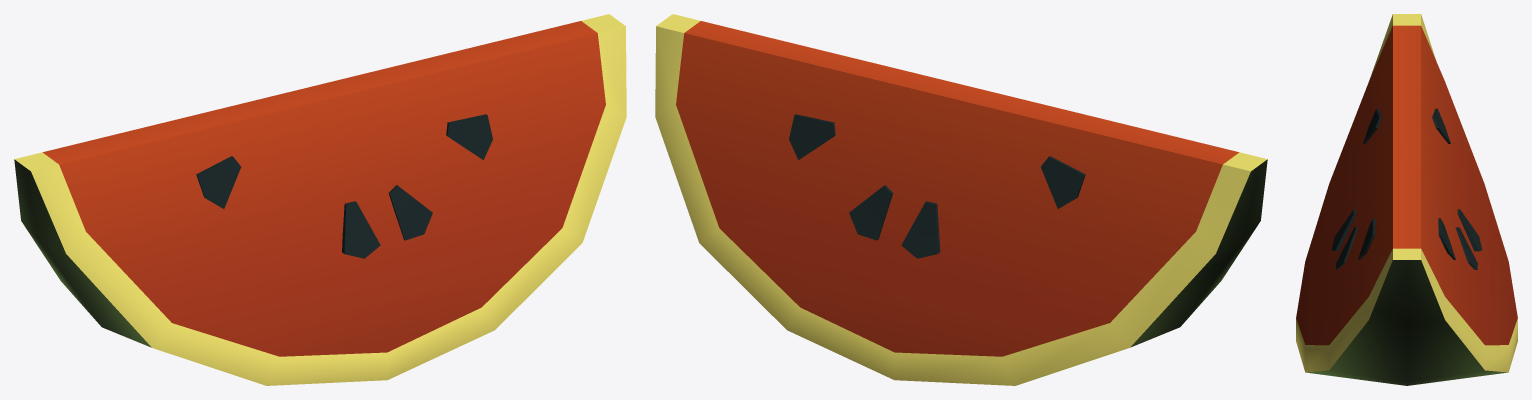
Rendered from melon_slice.fbx.
3 views of the same model, side by side, from view 1: azimuth 30°, elevation 25°; view 2: azimuth 150°, elevation 25°; view 3: azimuth 270°, elevation 25° (orthographic). The views are drawn at different scales.
Parts seen in each view (by area): view 1: melon_slice; view 2: melon_slice; view 3: melon_slice.
Part boxes in pixels (x1,y1,x2,y2): melon_slice: [14, 14, 626, 385]; melon_slice: [655, 14, 1267, 385]; melon_slice: [1296, 14, 1517, 385].
Size of the model in its own units: 44.85 by 18.44 by 17.08.
